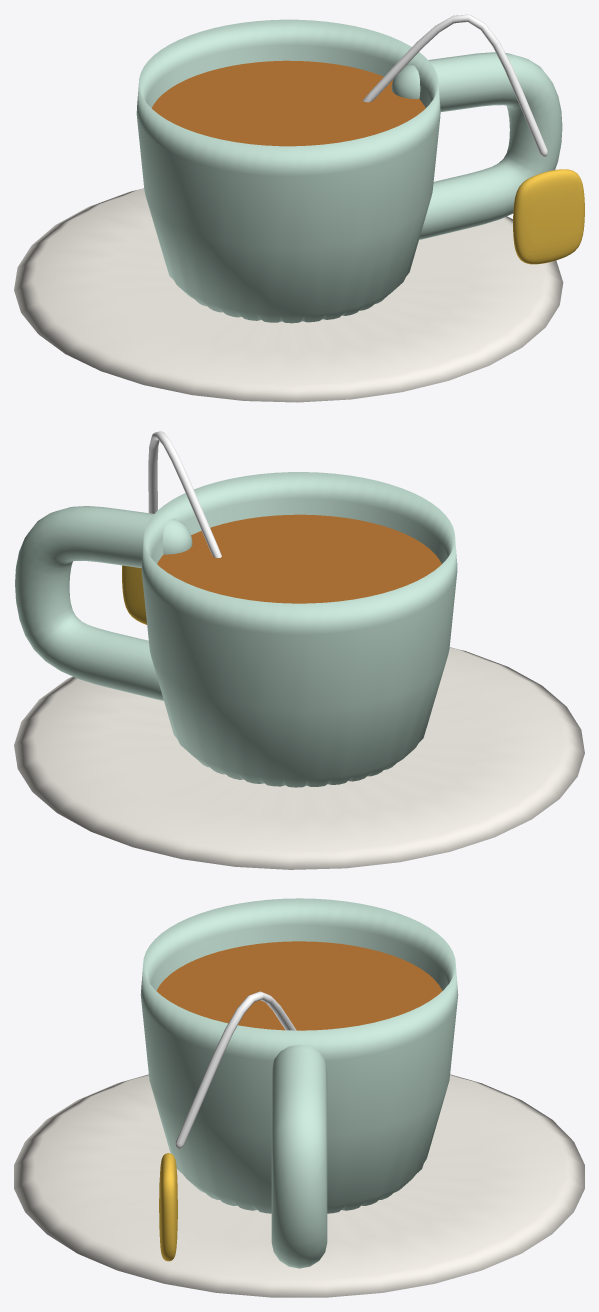
Rendered from comida_te.glb.
3 views of the same model, one above another, from view 1: azimuth 30°, elevation 25°; view 2: azimuth 150°, elevation 25°; view 3: azimuth 270°, elevation 25° (orthographic). The views are drawn at different scales.
Parts seen in each view (by area): view 1: platico.001, taza.003, té.001, oreja taza.003, etiqueta té.001, hilo té.001; view 2: platico.001, taza.003, té.001, oreja taza.003, hilo té.001, etiqueta té.001; view 3: platico.001, taza.003, té.001, oreja taza.003, hilo té.001, etiqueta té.001.
Boxes of the visible parts, x1,y1,x2,y2 form: platico.001: (14,188,563,402); taza.003: (136,19,440,323); té.001: (151,60,425,146); oreja taza.003: (391,52,562,239); etiqueta té.001: (513,169,584,264); hilo té.001: (362,14,547,156); platico.001: (14,647,584,869); taza.003: (141,472,457,787); té.001: (157,514,441,603); oreja taza.003: (15,506,192,700); hilo té.001: (148,431,221,557); etiqueta té.001: (122,565,146,624); platico.001: (14,1074,584,1297); taza.003: (140,898,458,1213); té.001: (156,941,442,1030); oreja taza.003: (271,1044,327,1268); hilo té.001: (175,991,296,1148); etiqueta té.001: (159,1153,177,1261).
Size of the model in its own units: 0.2568 by 0.1286 by 0.2398.
